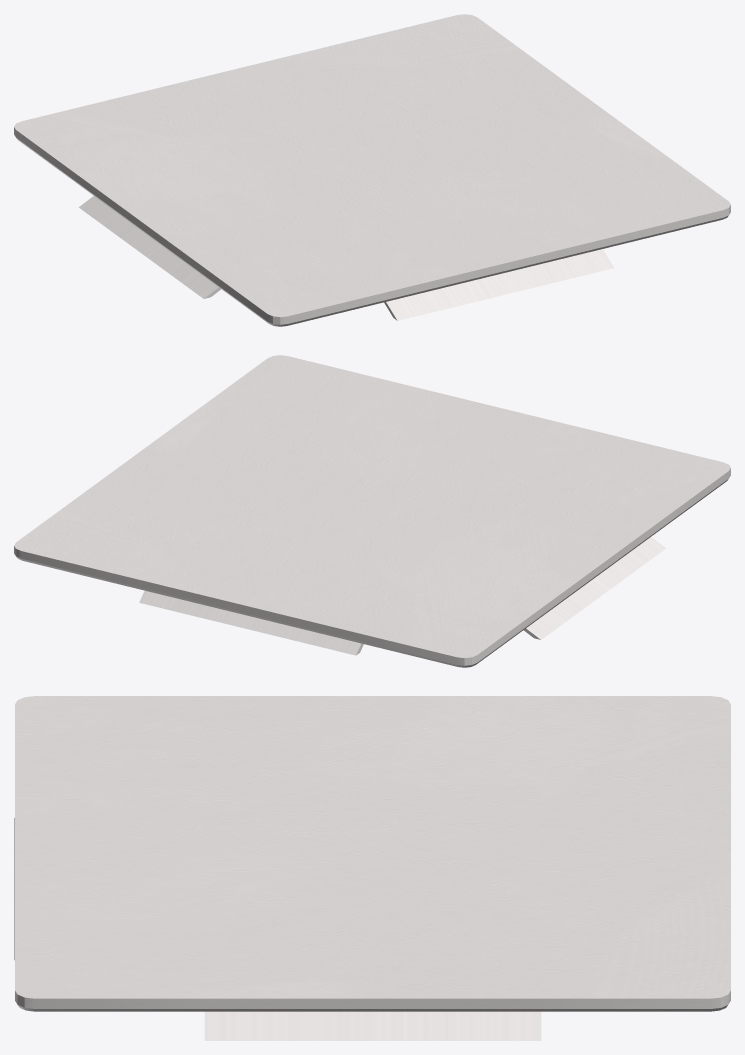
The model's file is 317 에어컨.fbx.
3 renders of one model, top to bottom at view 1: azimuth 30°, elevation 25°; view 2: azimuth 150°, elevation 25°; view 3: azimuth 270°, elevation 25°, orthographic. The views are drawn at different scales.
Parts seen in each view (by area): view 1: 에어컨.001; view 2: 에어컨.001; view 3: 에어컨.001.
Boxes of the visible parts, <box> form: 에어컨.001: <box>14,14,730,326</box>; 에어컨.001: <box>14,355,730,667</box>; 에어컨.001: <box>14,696,730,1040</box>.
Size of the model in its own units: 223 by 14.31 by 222.
